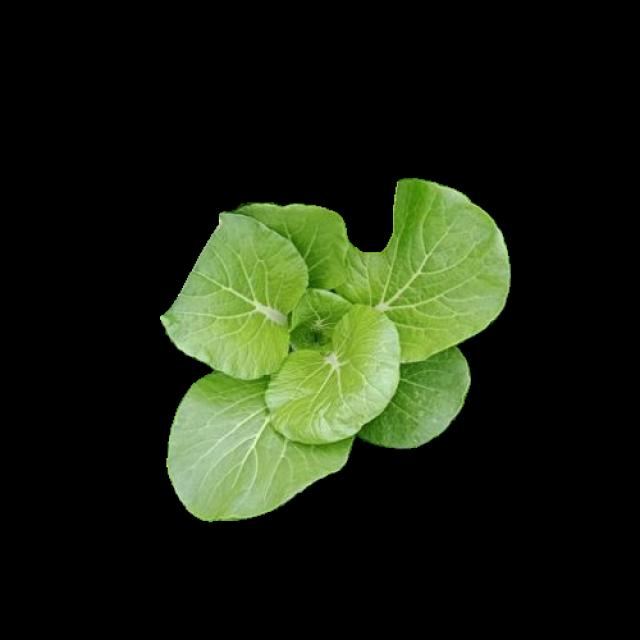healthy: (166, 180, 503, 504)
mature: (169, 182, 506, 507)
